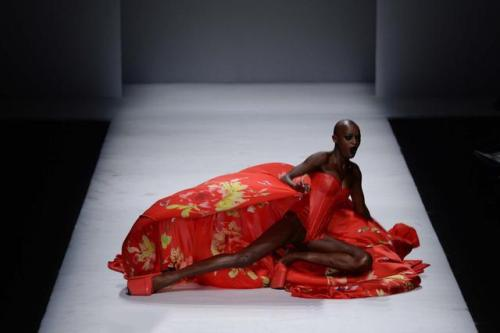fall: (112, 109, 396, 301)
